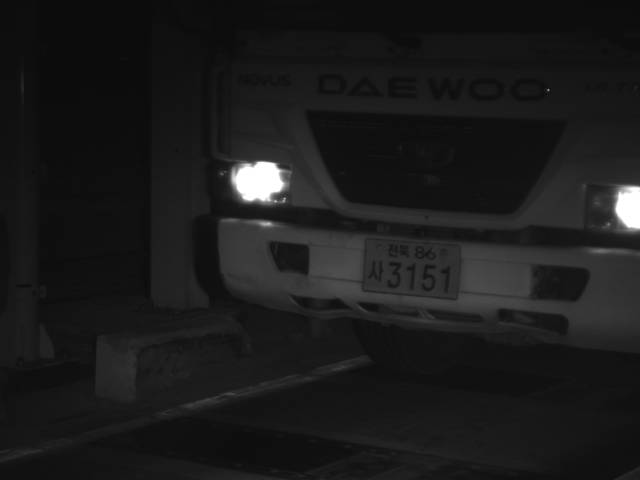car: (194, 1, 638, 386)
plate: (360, 236, 463, 301)
